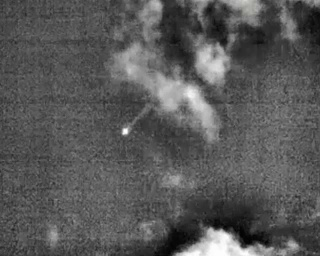AIRPLANE: (111, 72, 186, 148)
